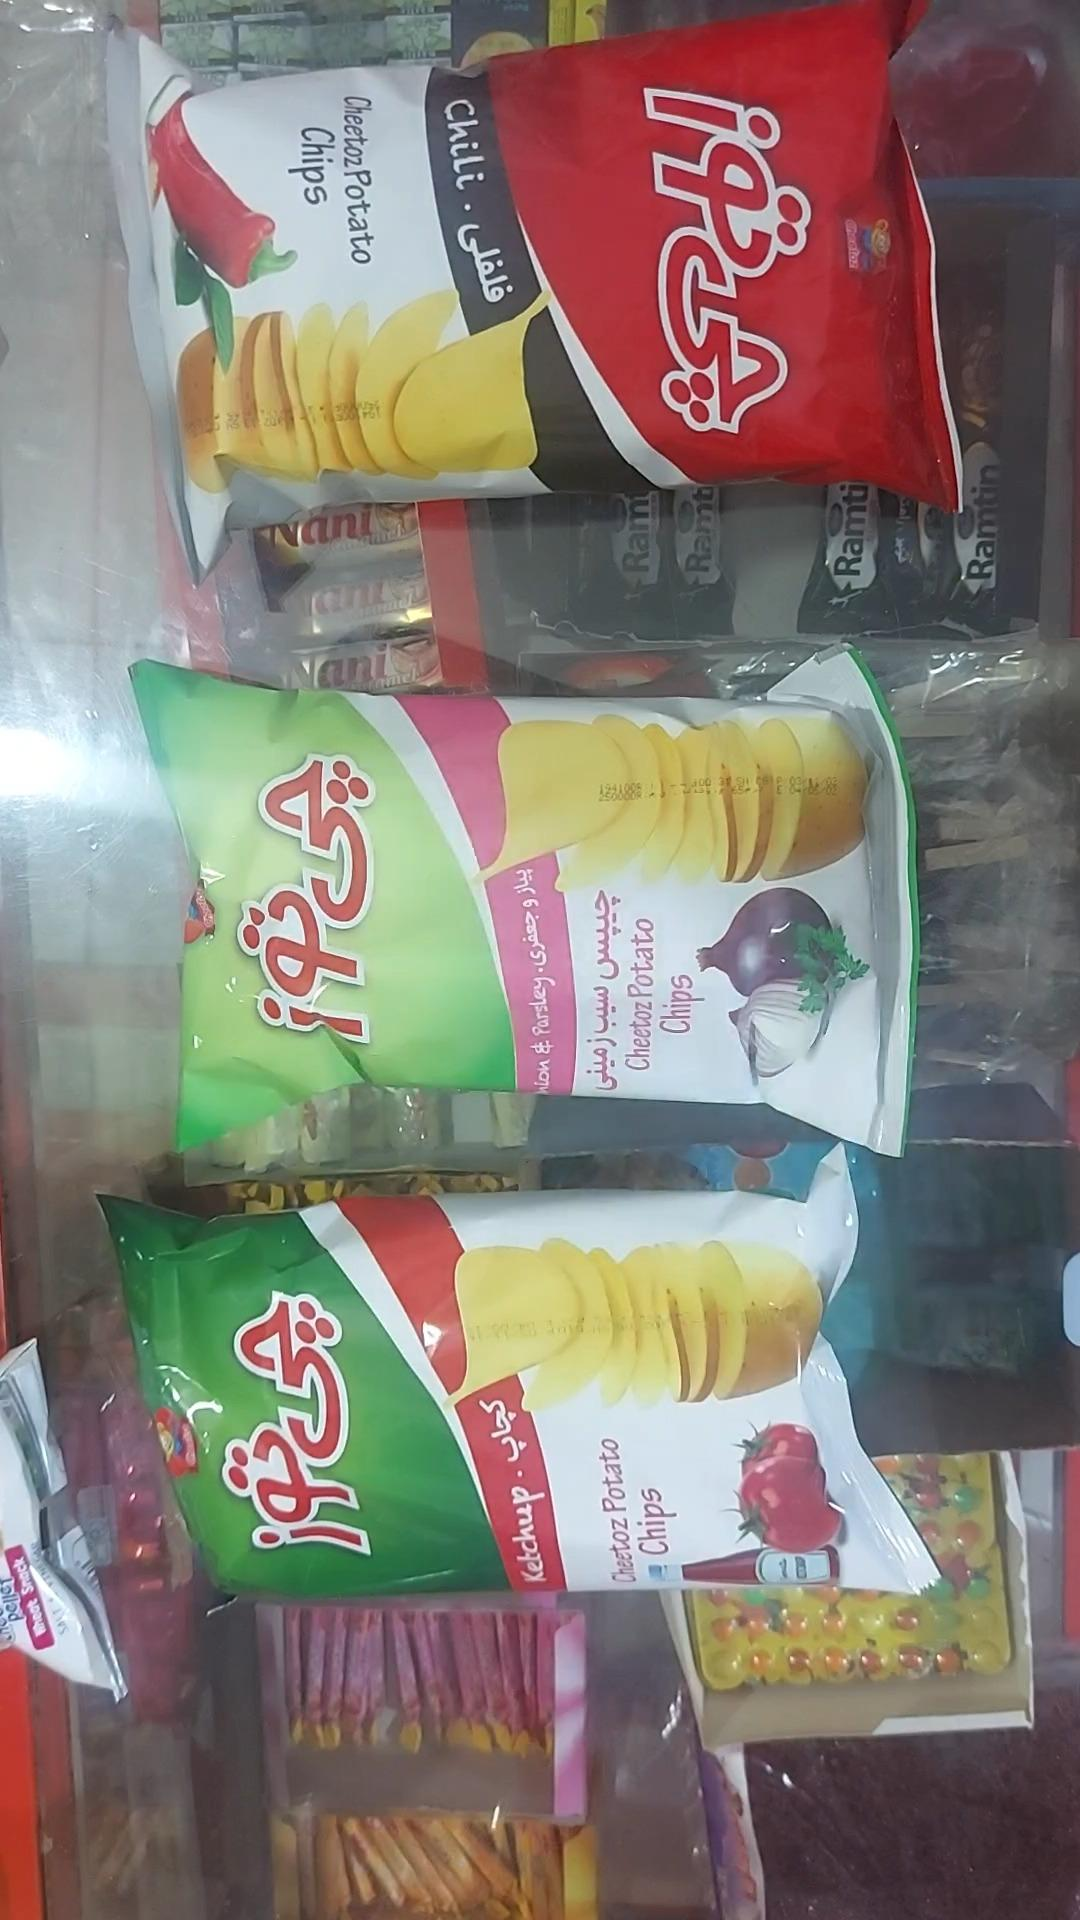Cheetoz chili chips: (102, 0, 965, 576)
Cheetoz ketchup chips: (95, 1146, 940, 1602)
Cheetoz onion and parsley chips: (128, 650, 919, 1159)
